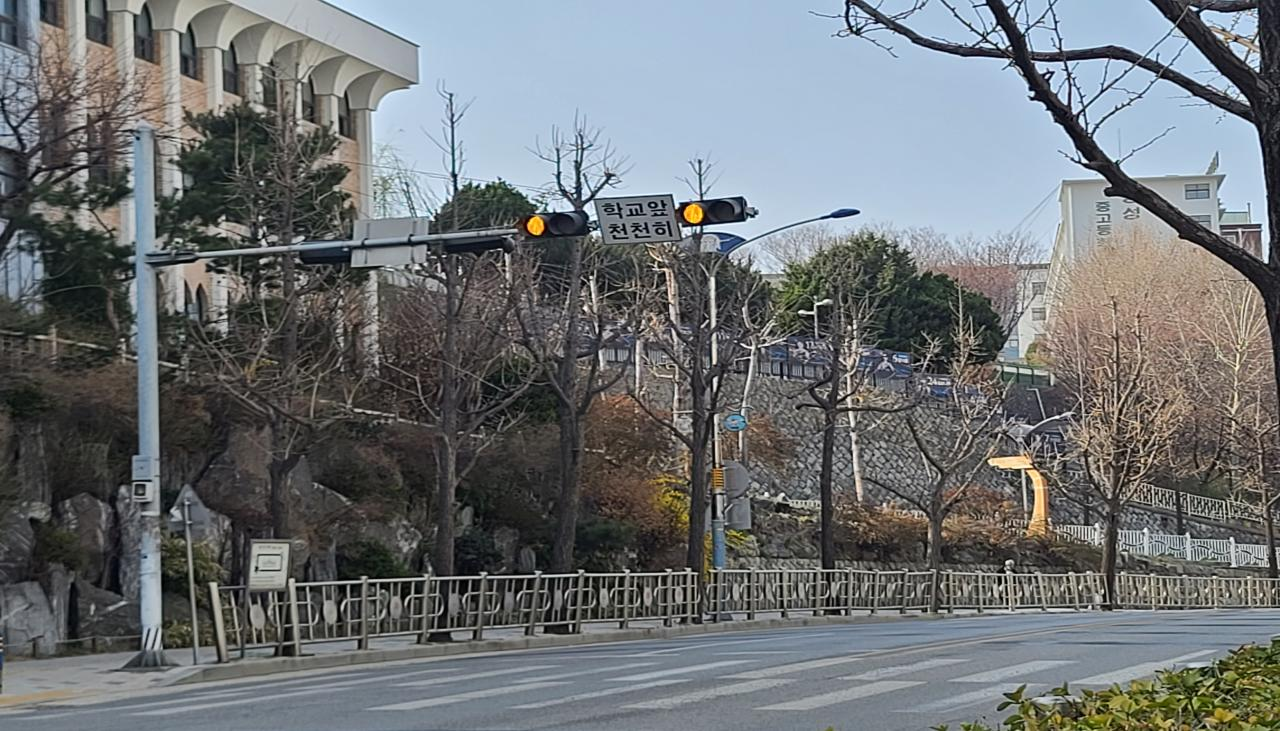Yellow Light: (682, 201, 704, 225), (526, 214, 547, 236)
